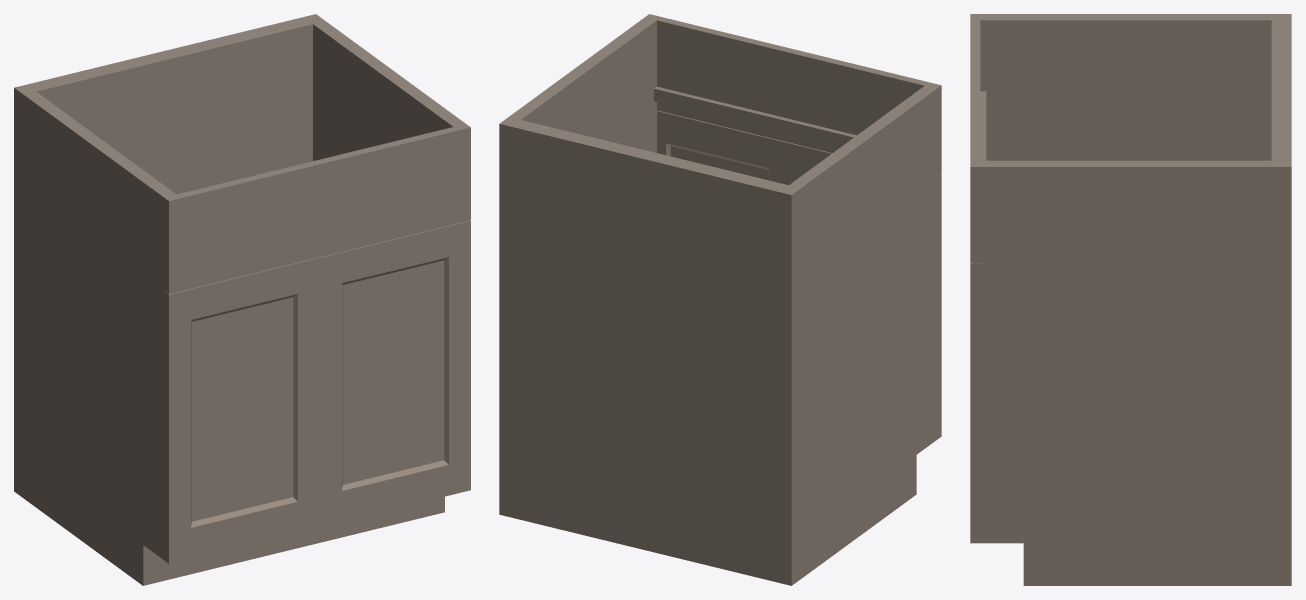
File: Sink-Base-Cabinet-Double-Door-False-Drawer_std_001_W27in.glb
3 renders of one model, left to right at view 1: azimuth 30°, elevation 25°; view 2: azimuth 150°, elevation 25°; view 3: azimuth 270°, elevation 25°, orthographic. The views are drawn at different scales.
Parts seen in each view (by area): view 1: Sink-Base-Cabinet-Double-Door-False-Drawer.std.001_W27in; view 2: Sink-Base-Cabinet-Double-Door-False-Drawer.std.001_W27in; view 3: Sink-Base-Cabinet-Double-Door-False-Drawer.std.001_W27in.
Part boxes in pixels (x1=…): Sink-Base-Cabinet-Double-Door-False-Drawer.std.001_W27in: x1=14, y1=14, x2=470, y2=585; Sink-Base-Cabinet-Double-Door-False-Drawer.std.001_W27in: x1=499, y1=14, x2=941, y2=585; Sink-Base-Cabinet-Double-Door-False-Drawer.std.001_W27in: x1=970, y1=14, x2=1291, y2=585.
Bounding box in the file's own units: 0.6858 × 0.8763 × 0.6096.
